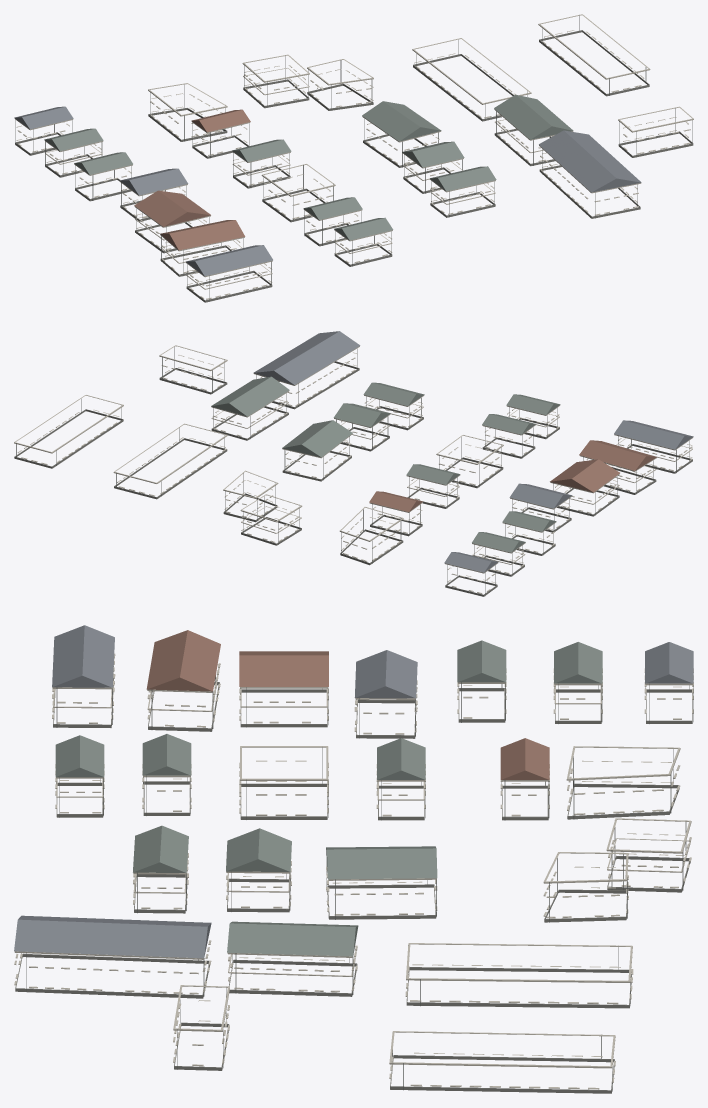
Rendered from district_0_-3.glb.
3 renders of one model, top to bottom at view 1: azimuth 30°, elevation 25°; view 2: azimuth 150°, elevation 25°; view 3: azimuth 270°, elevation 25°, orthographic. The views are drawn at different scales.
Parts seen in each view (by area): view 1: RoofMetal, MasonryTrim, MetalDetails; view 2: RoofMetal, MasonryTrim, MetalDetails; view 3: RoofMetal, MasonryTrim, MetalDetails.
Part boxes in pixels (x1,y1,x2,y2): RoofMetal: (14,94,641,276); MasonryTrim: (14,14,693,302); MetalDetails: (15,15,692,301); RoofMetal: (211,331,693,572); MasonryTrim: (14,345,693,596); MetalDetails: (16,347,689,595); RoofMetal: (14,625,693,958); MasonryTrim: (14,653,693,1093); MetalDetails: (21,675,693,1091).
Size of the model in its own units: 165 by 10.1 by 114.
